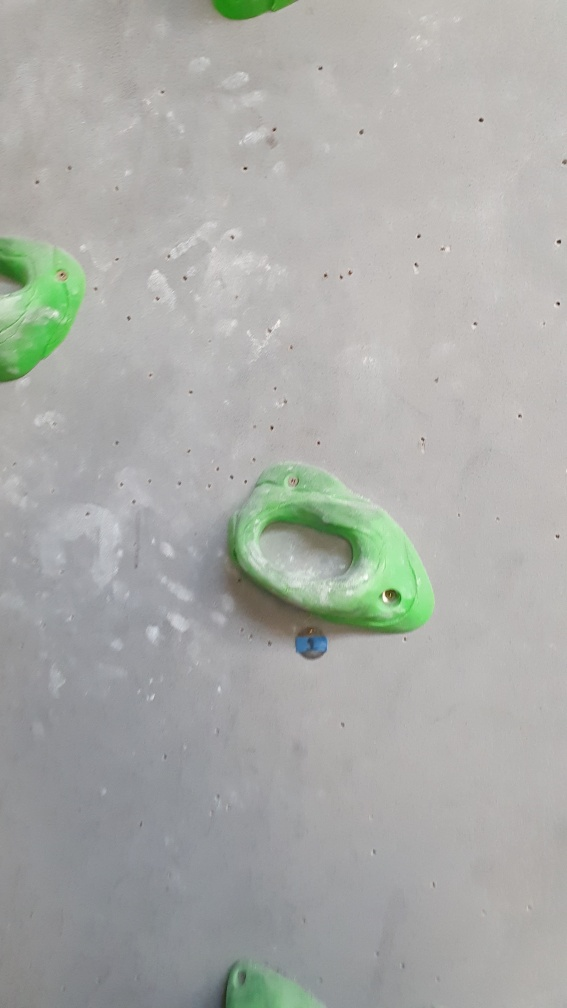Hand Start: (290, 622, 333, 663)
Pocket: (224, 461, 439, 634), (1, 231, 92, 390)
